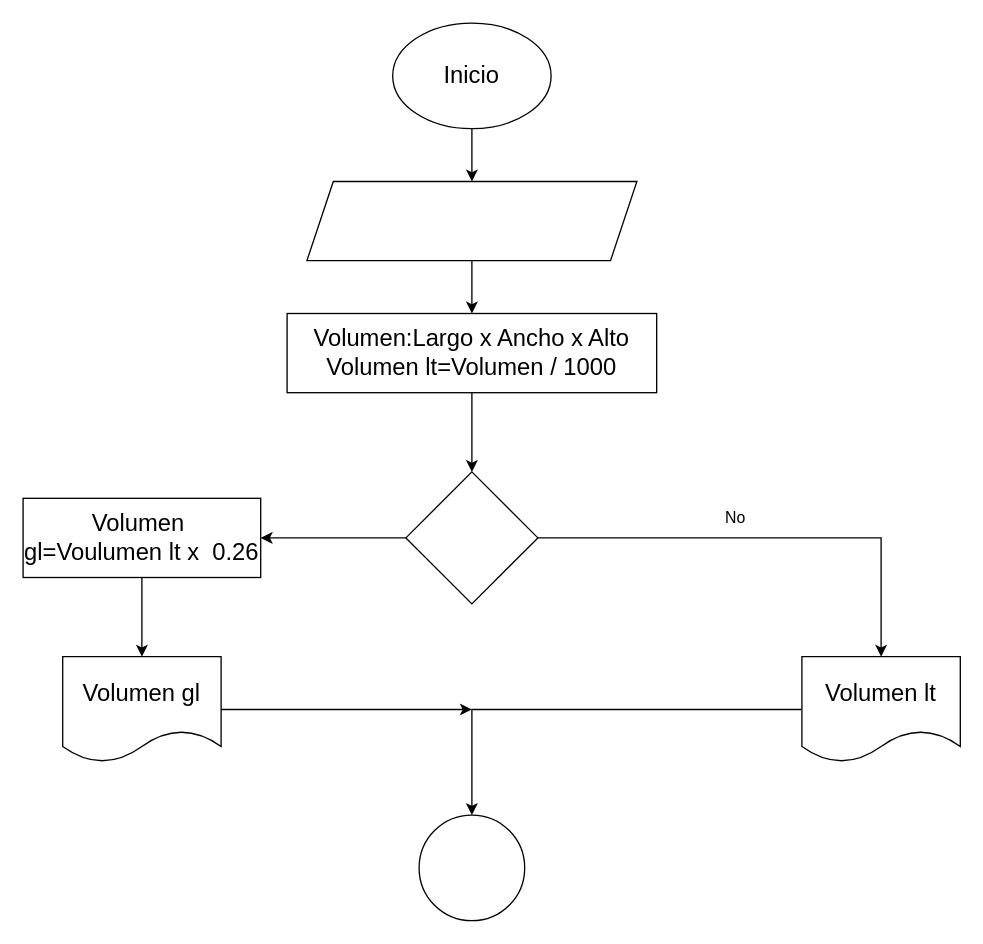
Image size: 983x944. Some labels were removed from this diagram. Each missing label, with the box of its shape:
Fin: (418, 814, 525, 921)
Largo,Ancho,Alto,Unidad.: (306, 180, 637, 261)
Unidad=G: (405, 471, 538, 604)
